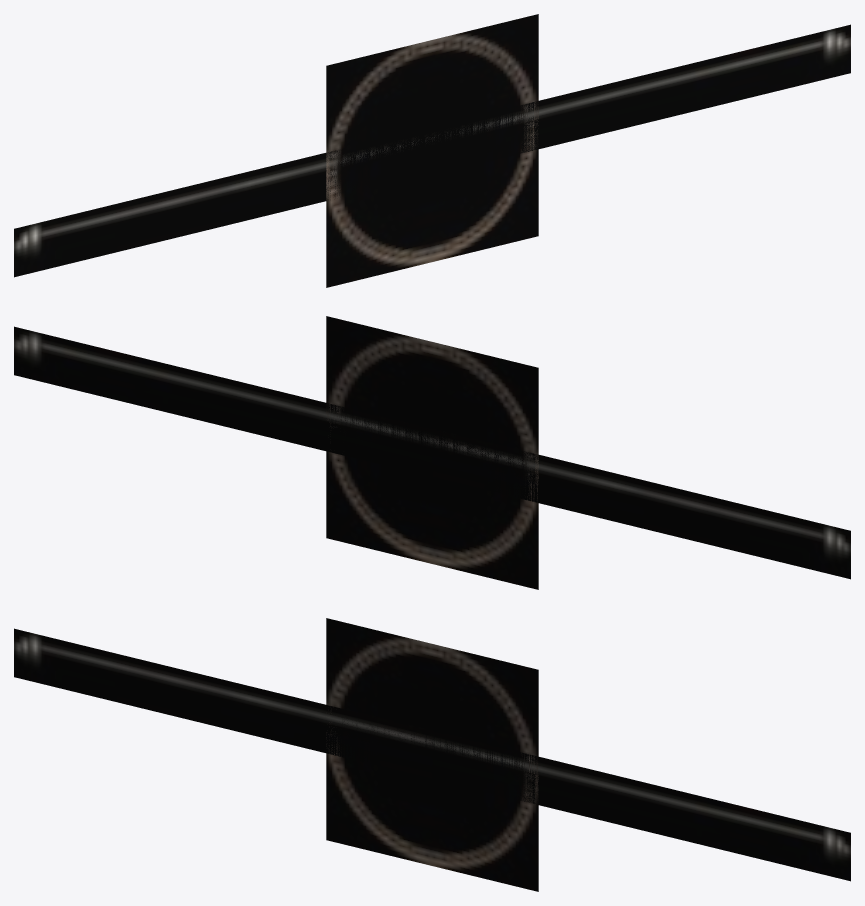
The model's file is ship_battle.fbx.
3 renders of one model, top to bottom at view 1: azimuth 30°, elevation 25°; view 2: azimuth 150°, elevation 25°; view 3: azimuth 330°, elevation 25°, orthographic.
Parts seen in each view (by area): view 1: ship_battle_dish02, ship_battle_speed_bar; view 2: ship_battle_dish02, ship_battle_speed_bar; view 3: ship_battle_dish02, ship_battle_speed_bar.
Boxes of the visible parts, x1,y1,x2,y2 form: ship_battle_dish02: (326,14,538,287); ship_battle_speed_bar: (14,24,850,277); ship_battle_dish02: (326,316,538,589); ship_battle_speed_bar: (14,326,850,579); ship_battle_dish02: (326,618,538,891); ship_battle_speed_bar: (14,628,850,881).
Size of the model in its own units: 143 by 36.25 by 5.91e-06.
1 material, 1 textured.
